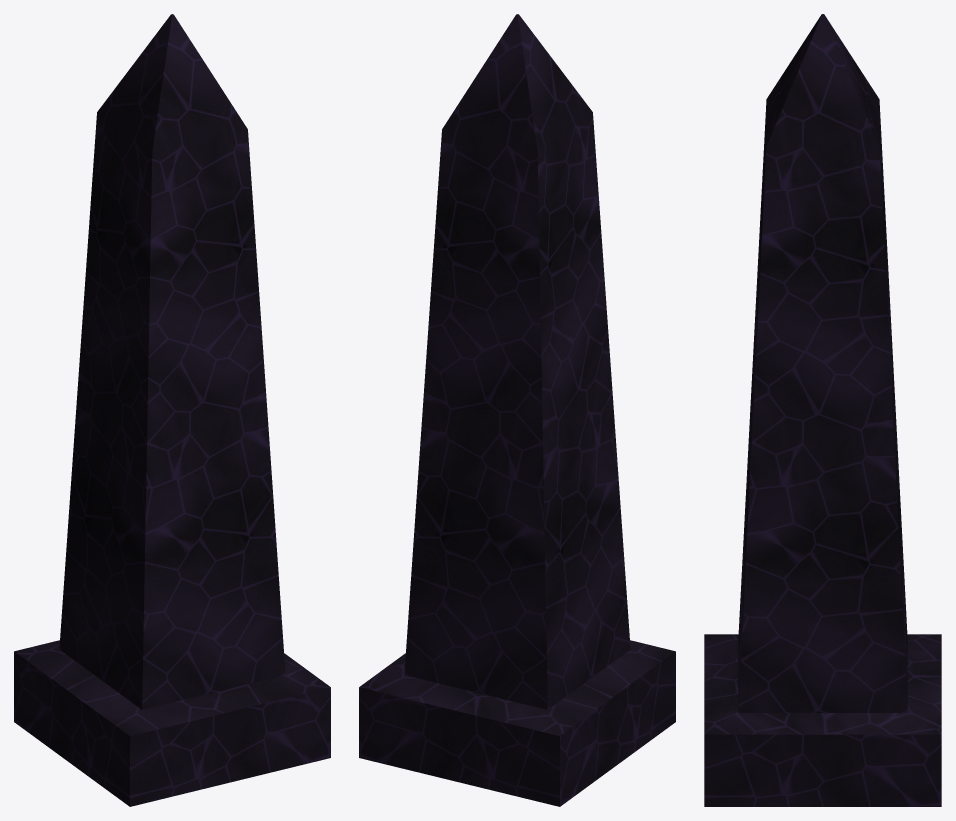
Rendered from ENV_Shadow_Obelisk.fbx.
The picture shows the model from 3 angles, left to right: view 1: azimuth 30°, elevation 25°; view 2: azimuth 150°, elevation 25°; view 3: azimuth 270°, elevation 25°; orthographic projection. The views are drawn at different scales.
Parts seen in each view (by area): view 1: ENV_Shadow_Obelisk; view 2: ENV_Shadow_Obelisk; view 3: ENV_Shadow_Obelisk.
Boxes of the visible parts, x1,y1,x2,y2 form: ENV_Shadow_Obelisk: [14, 14, 330, 806]; ENV_Shadow_Obelisk: [359, 14, 675, 806]; ENV_Shadow_Obelisk: [704, 14, 941, 806].
Bounding box in the file's own units: 0.594 × 2.05 × 0.594.
